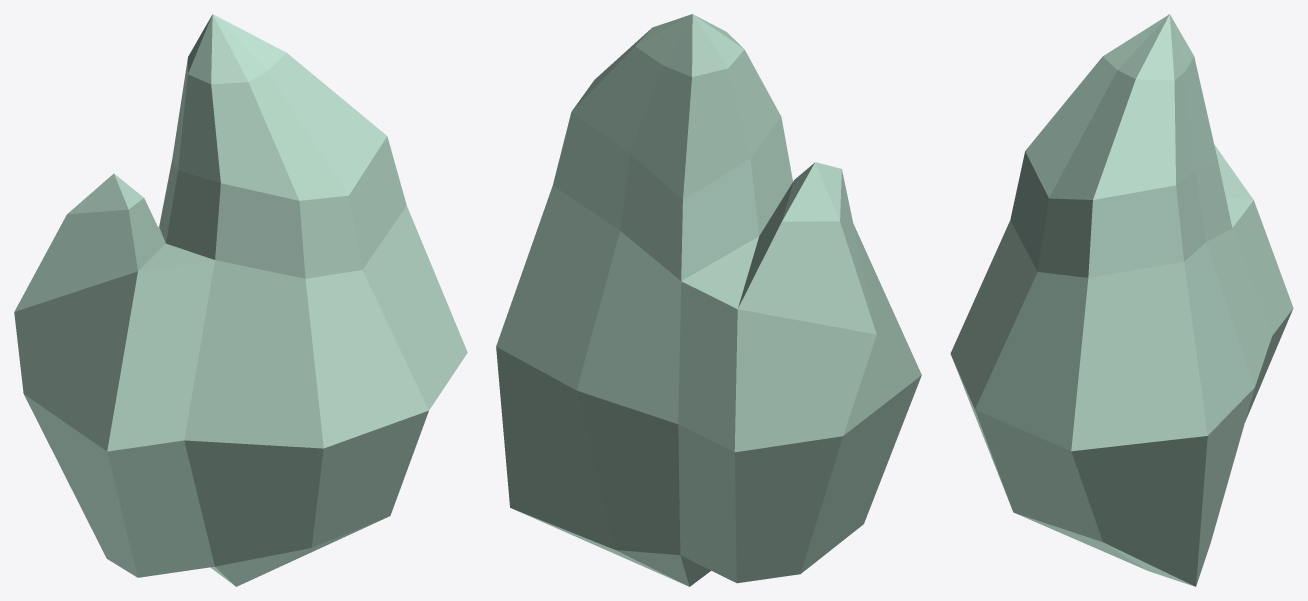
Rendered from Rock4.FBX.
The picture shows the model from 3 angles, left to right: view 1: azimuth 30°, elevation 25°; view 2: azimuth 150°, elevation 25°; view 3: azimuth 270°, elevation 25°; orthographic projection. The views are drawn at different scales.
Visible parts, largest first — view 1: Sphere004; view 2: Sphere004; view 3: Sphere004.
Part boxes in pixels (box(x1,y1,x2,y2)): Sphere004: box(14, 14, 467, 586); Sphere004: box(496, 14, 921, 586); Sphere004: box(950, 14, 1293, 586).
Size of the model in its own units: 57.54 by 79.52 by 44.85.
